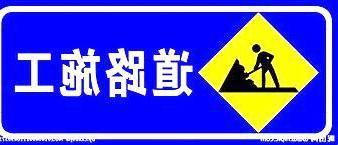sign: (1, 4, 333, 140)
